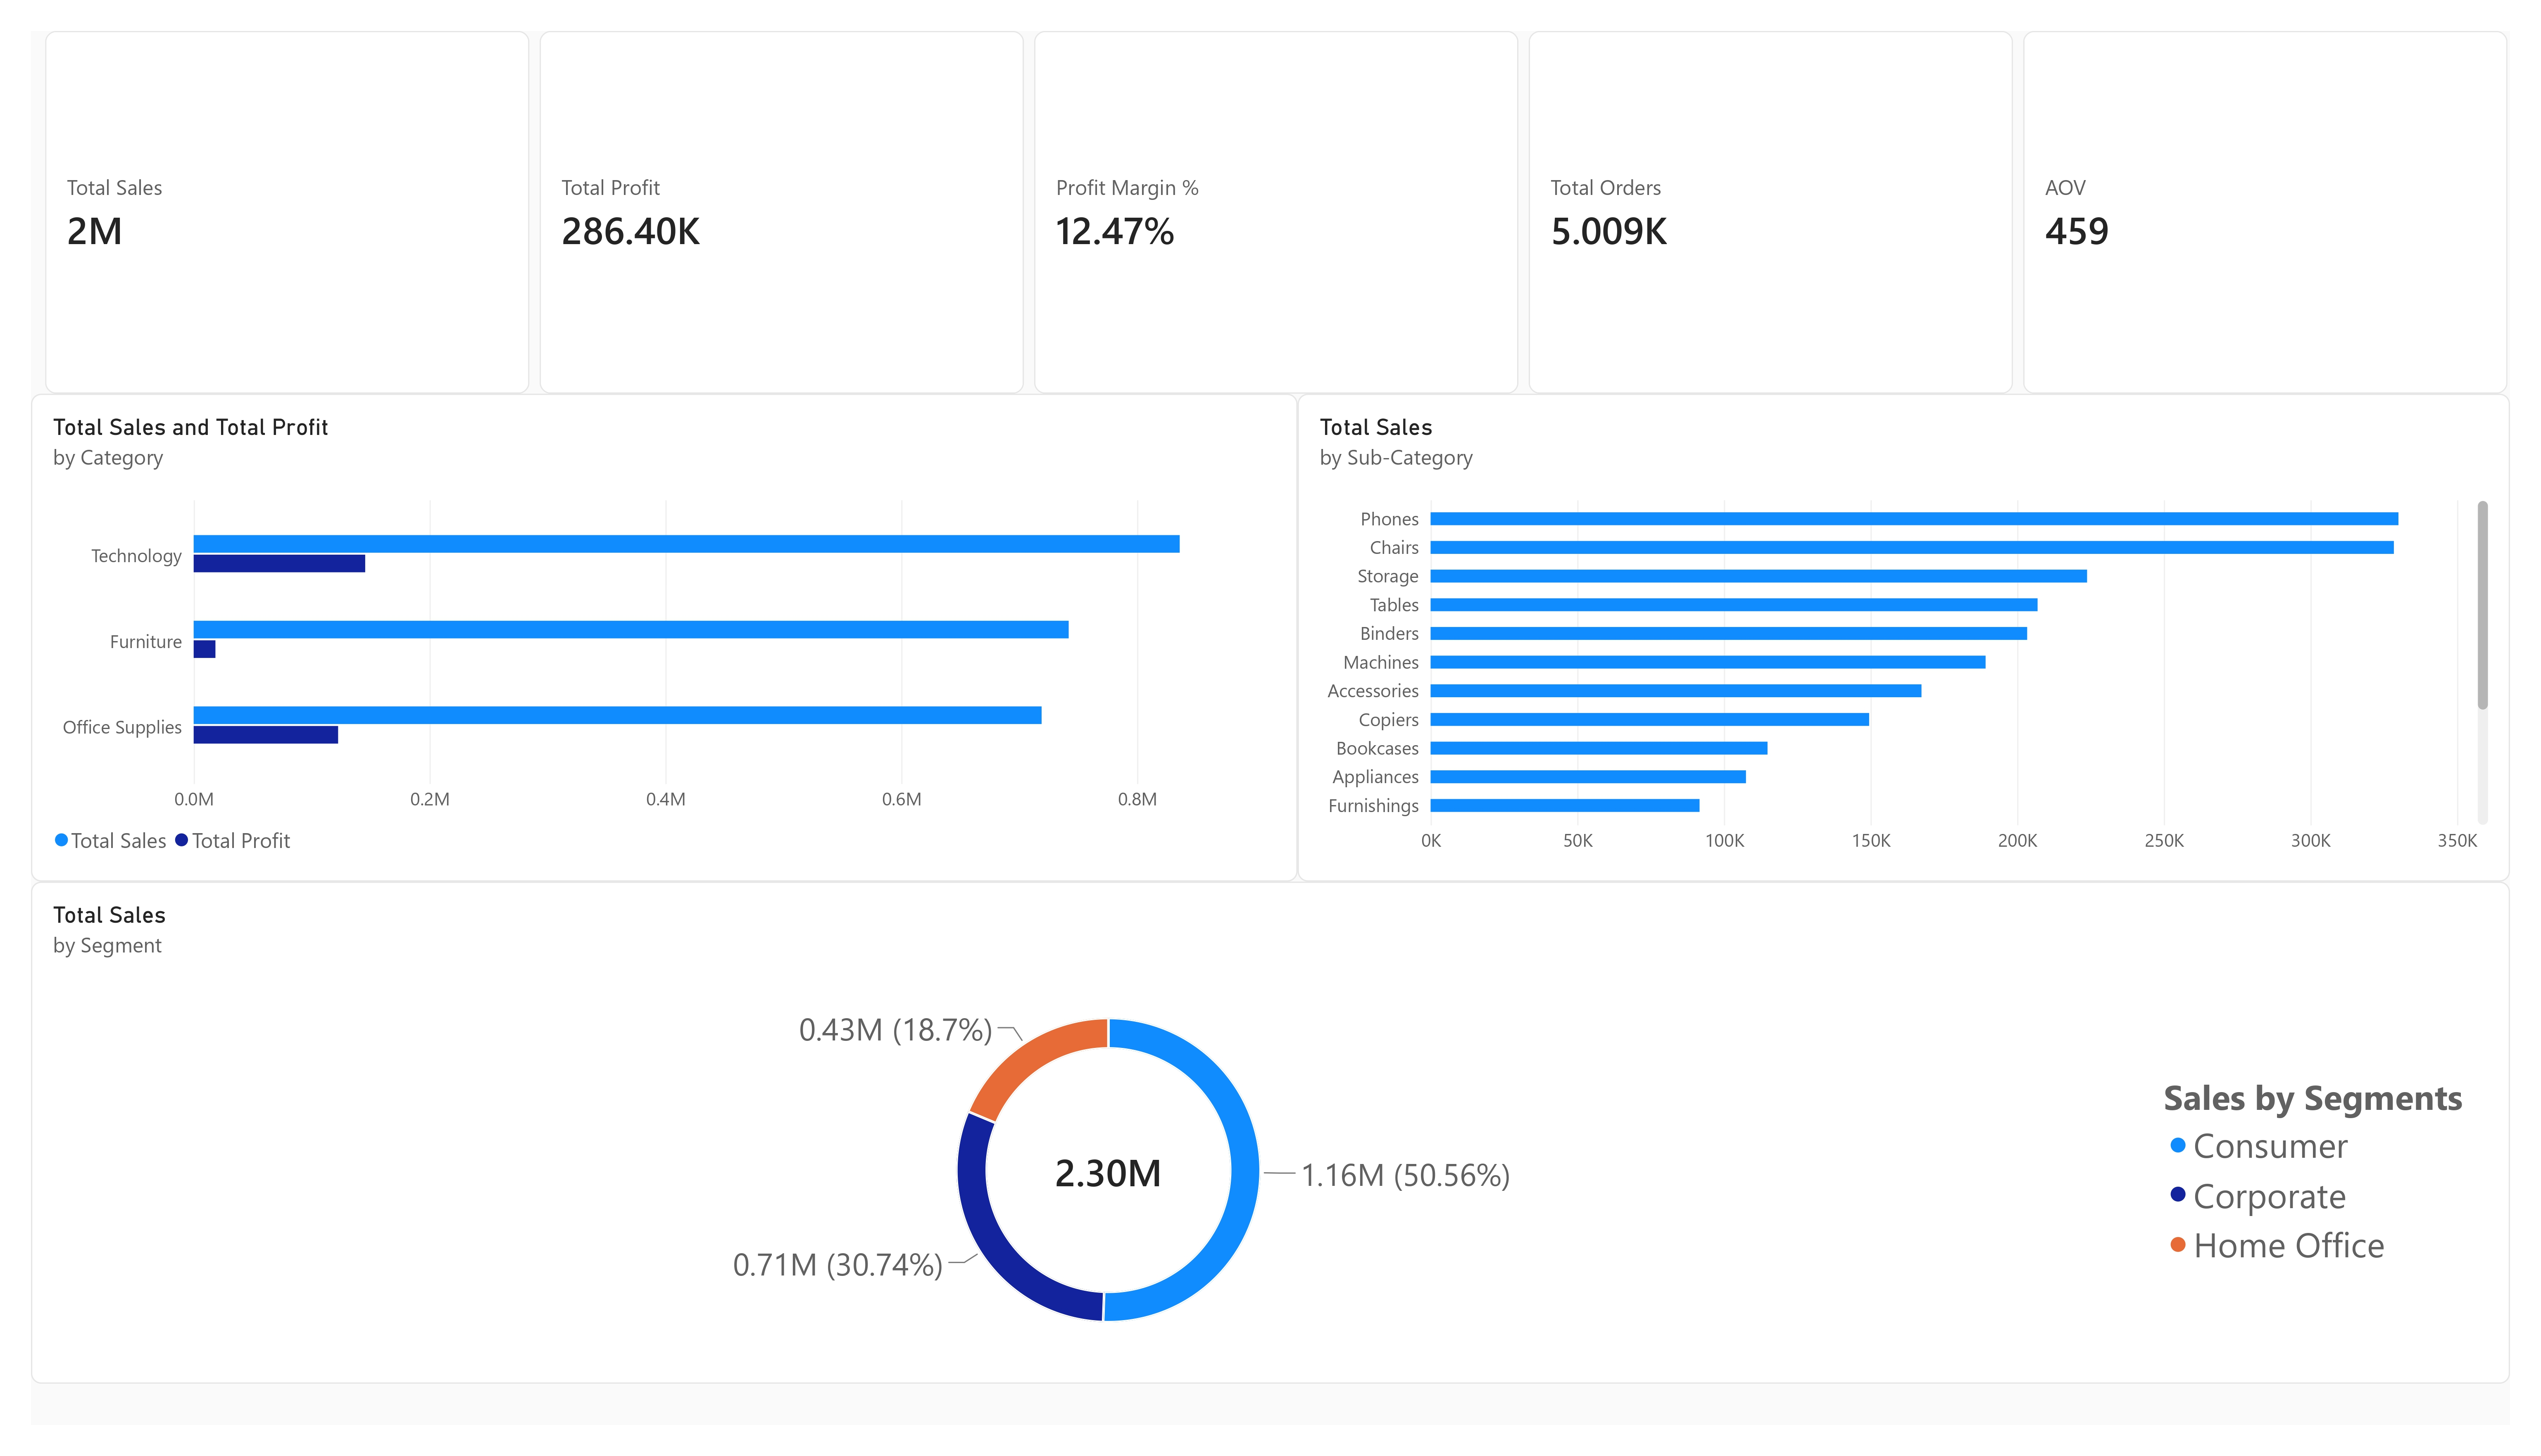

This screenshot's page, from the dashboard's own definition file:
{"tool":"powerbi","page":{"name":"Product","canvas":[1920,1080],"ordinal":1},"visuals":[{"type":"cardVisual","fields":{"Data":["superstore_cleaned.Total Sales","superstore_cleaned.Total Profit","superstore_cleaned.Profit Margin %","superstore_cleaned.Total Orders","superstore_cleaned.AOV"]},"box":[10.8,0,1909.4,280.8],"z":0},{"type":"clusteredBarChart","fields":{"Category":["superstore_cleaned.Category"],"Y":["superstore_cleaned.Total Sales","superstore_cleaned.Total Profit"]},"box":[0,280.8,980.6,378],"z":1000},{"type":"clusteredBarChart","fields":{"Category":["superstore_cleaned.Sub-Category"],"Y":["superstore_cleaned.Total Sales"]},"box":[980.6,280.8,939.6,378],"z":2000},{"type":"donutChart","fields":{"Category":["superstore_cleaned.Segment"],"Y":["superstore_cleaned.Total Sales"]},"box":[0,658.8,1920.2,388.8],"z":3000}]}

Visuals, with their boxes on the page's 1920x1080 design canvas (x1, y1, x2, y2). These are canvas units, not pixel positions in the 2541x1456 screenshot, which may show the page scaled, cropped or inside an application window:
cardVisual - superstore_cleaned.Total Sales x superstore_cleaned.Total Profit: 11, 0, 1920, 281
clusteredBarChart - superstore_cleaned.Category x superstore_cleaned.Total Sales: 0, 281, 981, 659
clusteredBarChart - superstore_cleaned.Sub-Category x superstore_cleaned.Total Sales: 981, 281, 1920, 659
donutChart - superstore_cleaned.Segment x superstore_cleaned.Total Sales: 0, 659, 1920, 1048
